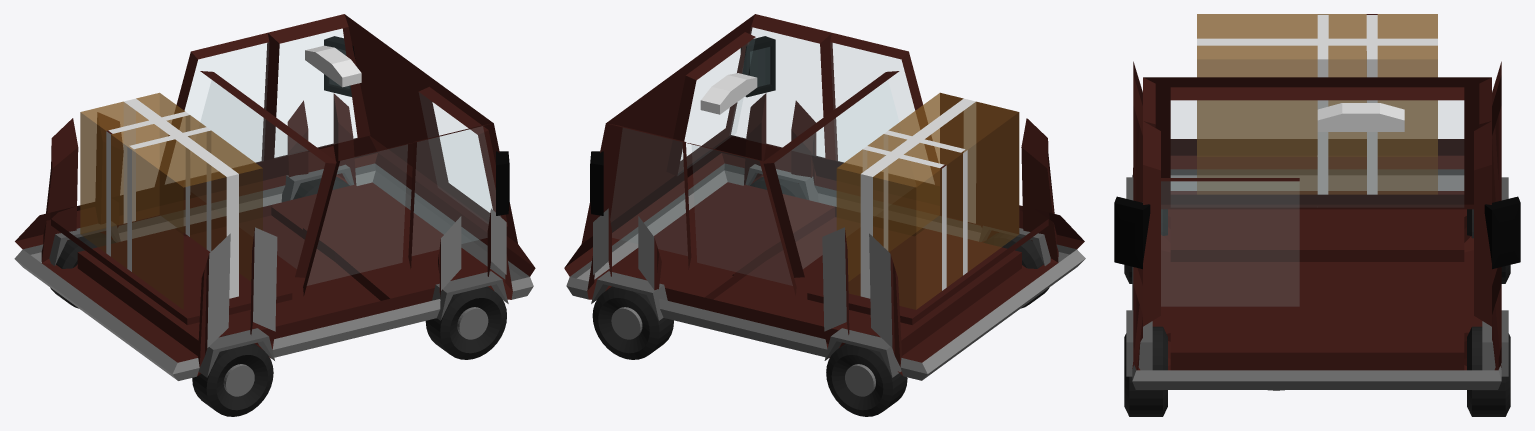
The model's file is Truck.fbx.
3 views of the same model, side by side, from view 1: azimuth 30°, elevation 25°; view 2: azimuth 150°, elevation 25°; view 3: azimuth 270°, elevation 25° (orthographic). The views are drawn at different scales.
Parts seen in each view (by area): view 1: Cube, Cylinder, Cylinder.001, Cube.001, Cube.002, Cube.003; view 2: Cube, Cylinder, Cylinder.001, Cube.003, Cube.002, Cube.001; view 3: Cube, Cube.003, Cylinder.001, Cube.002, Cylinder.
Boxes of the visible parts, x1,y1,x2,y2 form: Cube: (14,14,535,380); Cylinder: (50,232,273,416); Cylinder.001: (293,176,506,359); Cube.001: (49,221,274,377); Cube.002: (281,164,508,320); Cube.003: (324,36,509,215); Cube: (564,14,1085,380); Cylinder: (826,232,1049,416); Cylinder.001: (592,176,806,359); Cube.003: (590,36,775,215); Cube.002: (591,164,818,320); Cube.001: (824,225,1050,377); Cube: (1132,14,1501,389); Cube.003: (1114,196,1520,269); Cylinder.001: (1124,326,1510,416); Cube.002: (1126,310,1508,376); Cylinder: (1124,209,1510,283).
Size of the model in its own units: 1500 by 948 by 1243.
